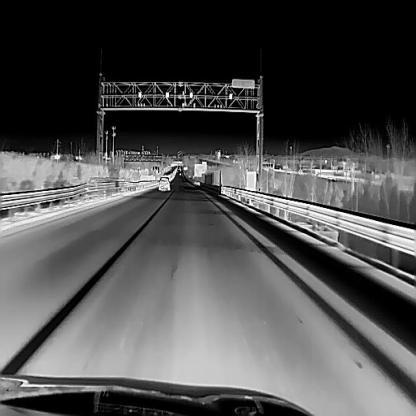car: (157, 175, 170, 190)
